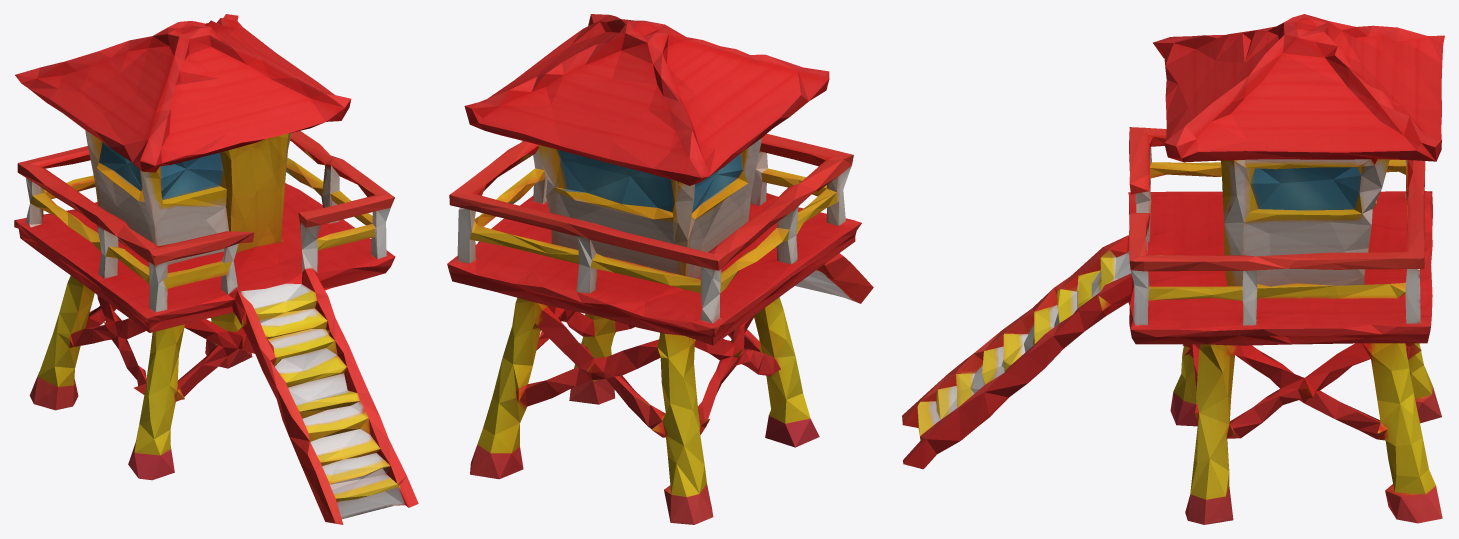
File: lifeguard_tower.glb
3 views of the same model, side by side, from view 1: azimuth 30°, elevation 25°; view 2: azimuth 150°, elevation 25°; view 3: azimuth 270°, elevation 25° (orthographic). The views are drawn at different scales.
Visible parts, largest first — view 1: geometry_0; view 2: geometry_0; view 3: geometry_0.
Boxes of the visible parts, x1=… form: geometry_0: x1=14, y1=14, x2=418, y2=524; geometry_0: x1=447, y1=14, x2=873, y2=524; geometry_0: x1=902, y1=14, x2=1444, y2=524.
Bounding box in the file's own units: 0.6022 × 0.8935 × 0.9969.
1 material, 1 textured.
